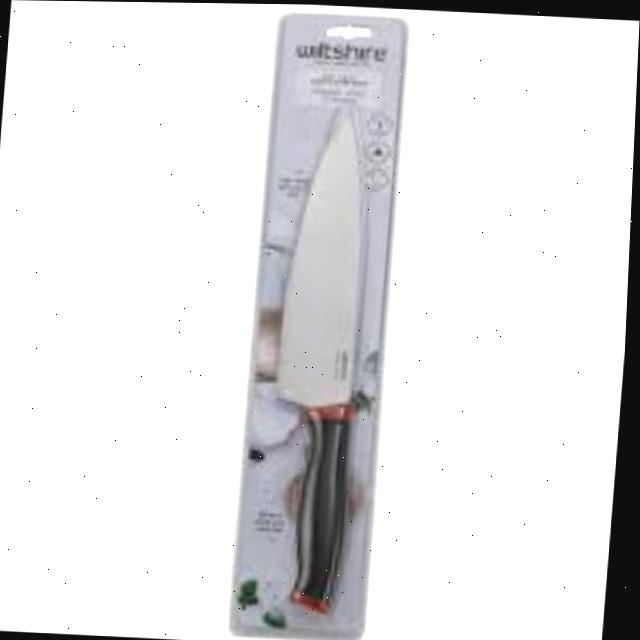Knife: (259, 97, 380, 613)
